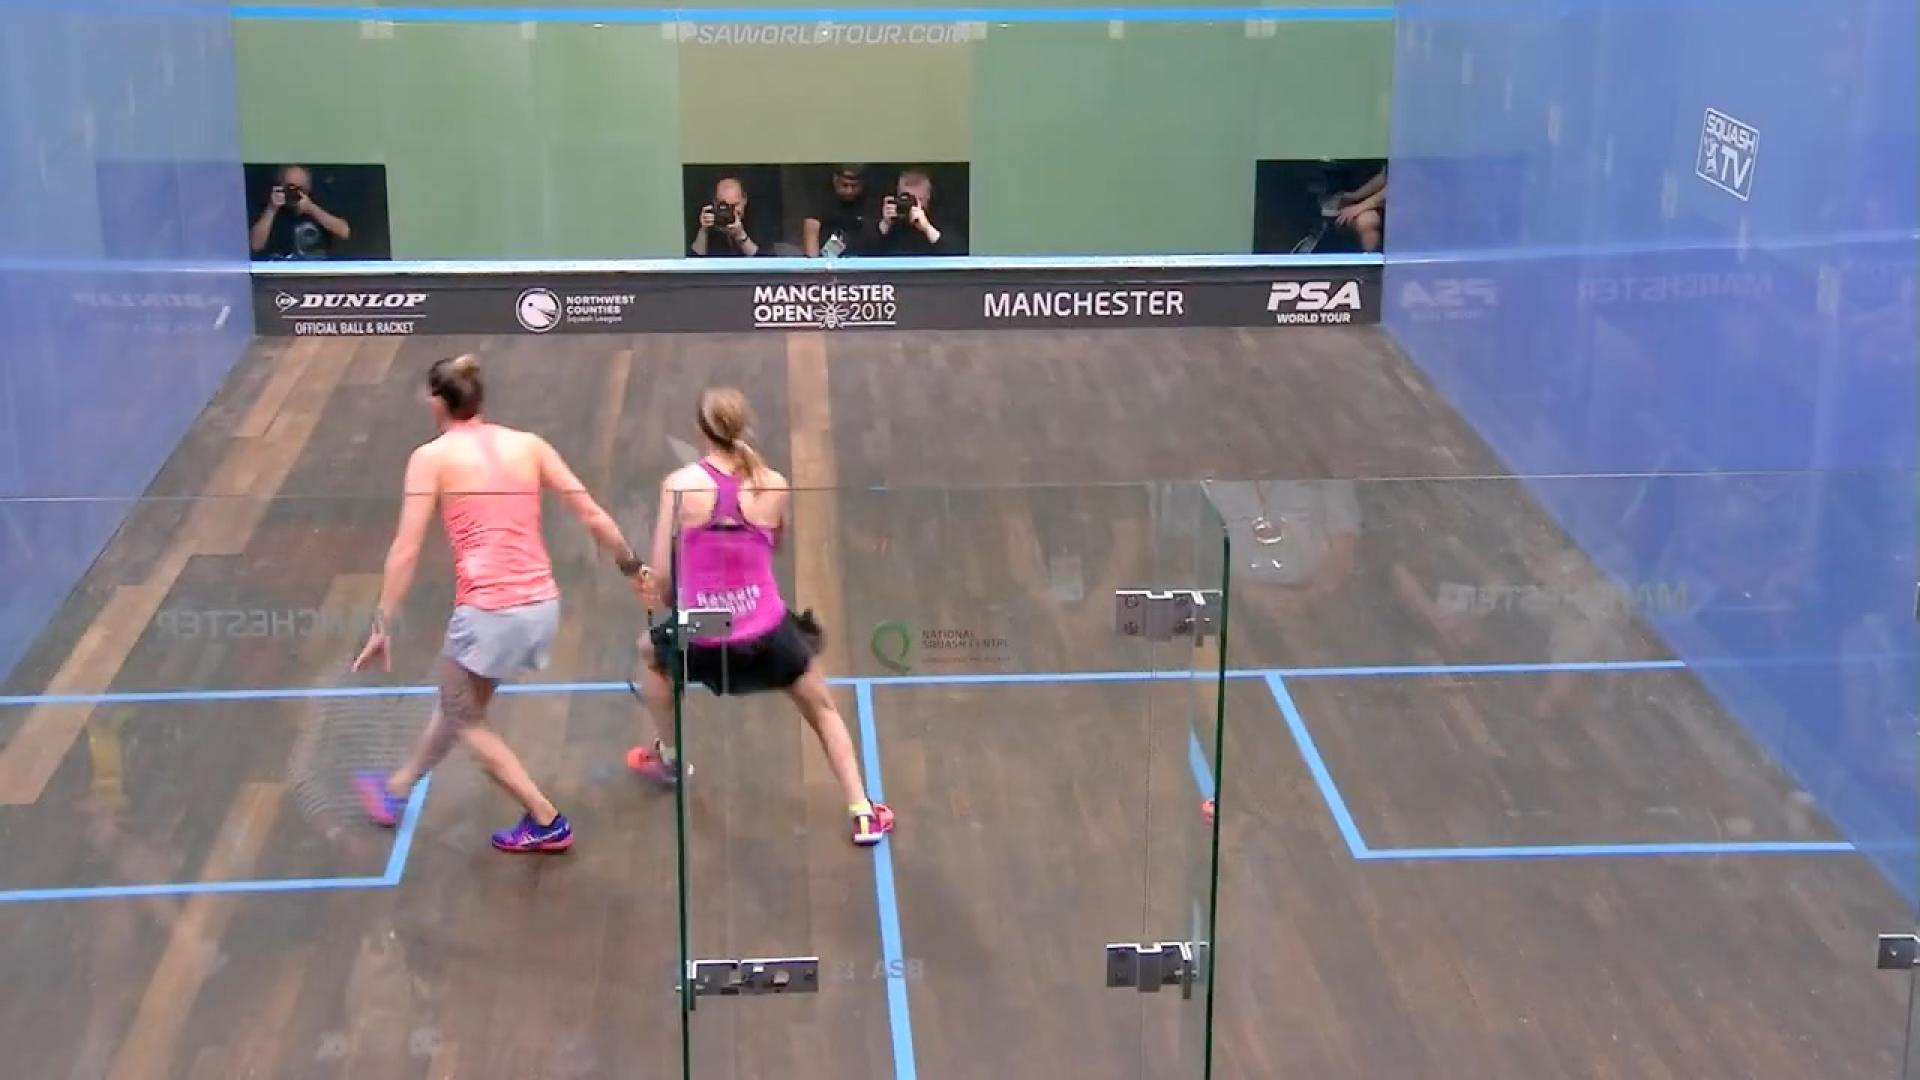Squash-Ball: (203, 287, 252, 348)
